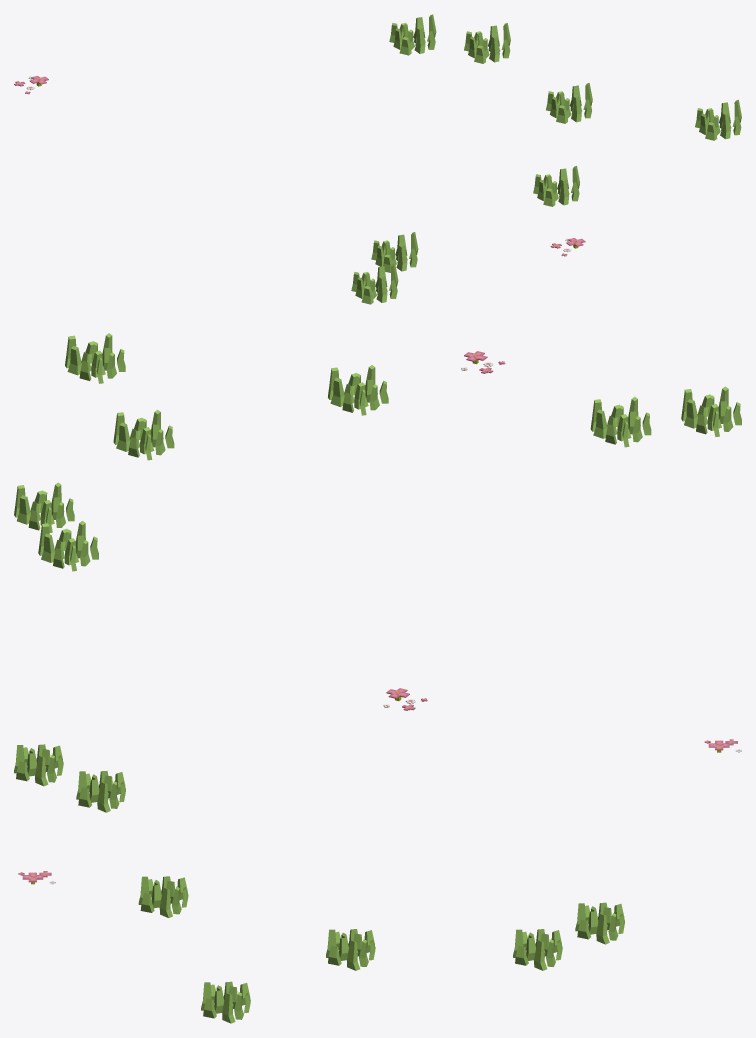
File: flower_grass 14.fbx
3 views of the same model, one above another, from view 1: azimuth 30°, elevation 25°; view 2: azimuth 150°, elevation 25°; view 3: azimuth 270°, elevation 25° (orthographic). The views are drawn at different scales.
Visible parts, largest first — view 1: Grass_3; view 2: Grass_3; view 3: Grass_3.
Boxes of the visible parts, x1,y1,x2,y2 form: Grass_3: [14, 14, 741, 304]; Grass_3: [14, 333, 741, 710]; Grass_3: [14, 739, 741, 1023].
Size of the model in its own units: 6434 by 294 by 7003.
2 materials, 2 textured.
